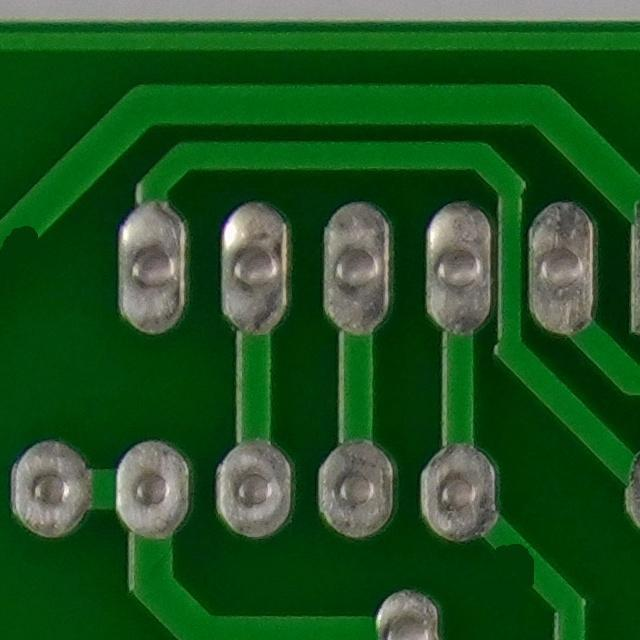mouse_bite: (472, 531, 553, 596), (0, 203, 54, 294)
